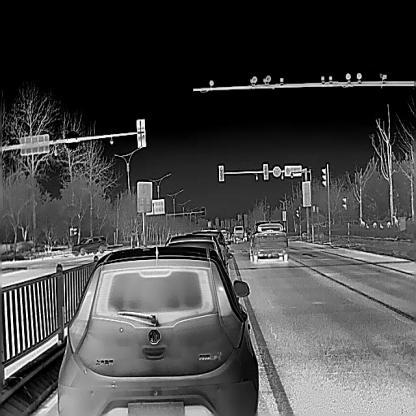car: (57, 246, 259, 415), (164, 233, 232, 278), (247, 220, 289, 262), (189, 229, 231, 267), (71, 235, 107, 256), (233, 225, 244, 242)
